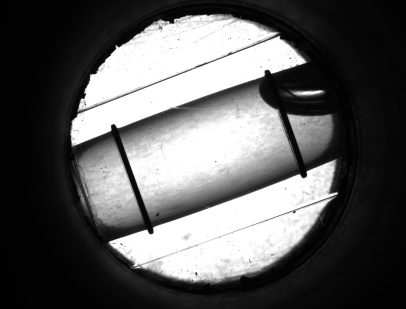line: (112, 143, 151, 212), (278, 122, 308, 158)
